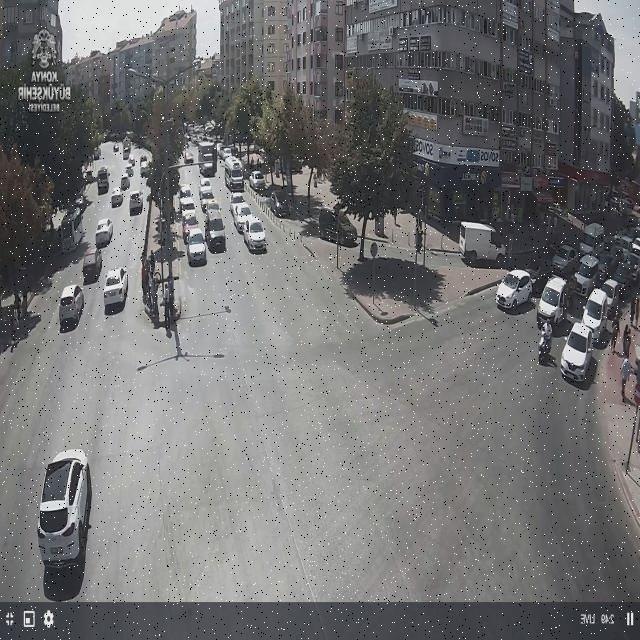Bus: (223, 157, 244, 191)
Car: (34, 449, 91, 568), (100, 266, 129, 312), (183, 229, 208, 265), (241, 219, 267, 253), (552, 245, 577, 274), (83, 249, 103, 284), (270, 190, 293, 217), (95, 218, 114, 247), (228, 192, 248, 210), (249, 171, 267, 189), (127, 191, 143, 211), (111, 187, 124, 207)
Cycle: (534, 338, 551, 367)
Truck: (196, 141, 218, 175)
Van: (559, 321, 599, 387), (458, 221, 509, 267), (534, 276, 572, 328), (580, 287, 610, 344), (493, 270, 535, 310), (320, 206, 357, 246), (59, 286, 85, 328), (206, 211, 226, 252)
